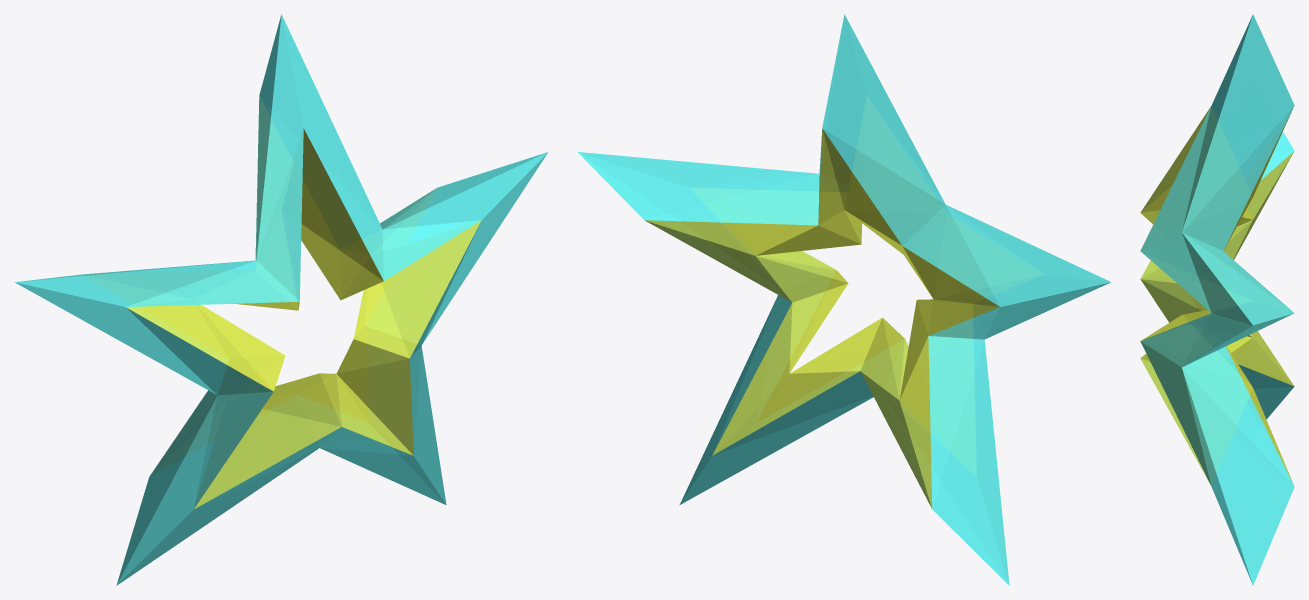
File: Regular5TetragonalStarToroid1.obj
3 views of the same model, side by side, from view 1: azimuth 30°, elevation 25°; view 2: azimuth 150°, elevation 25°; view 3: azimuth 270°, elevation 25° (orthographic). The views are drawn at different scales.
Bounding box in the file's own units: 4.85 × 4.62 × 1.3.
